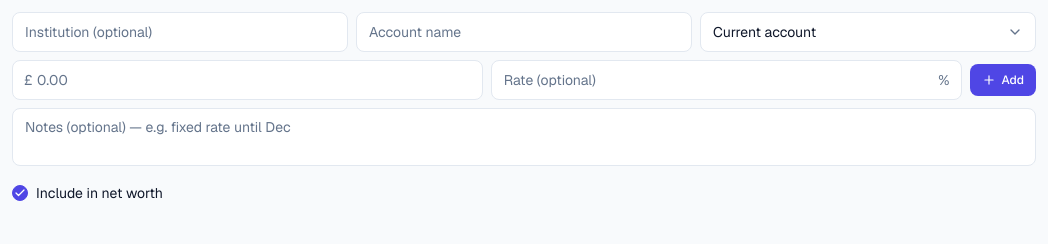
it: AddAccountForm › shows supabase error message on insert failure
The width and height of the screenshot is (1048, 244).
In the field with placeholder "Account name": (524, 32) [356,12,692,52], type "Test"
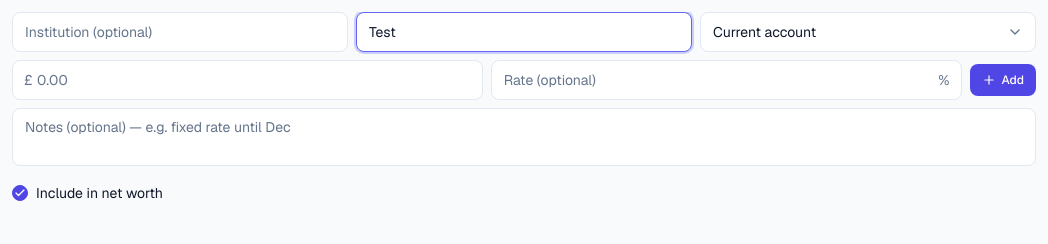
In the number field with placeholder "0.00": (247, 80) [12,60,483,100], type "100"
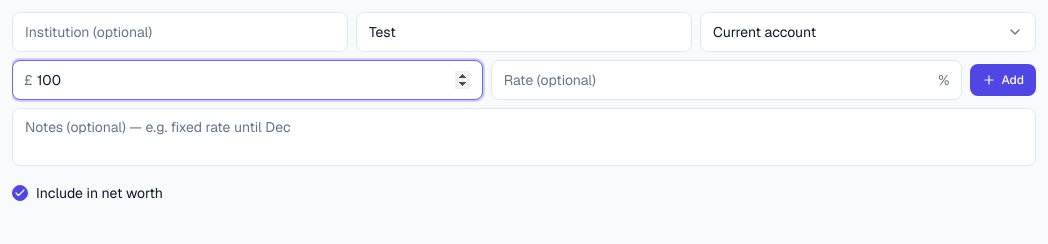
Click the button "Add": (1003, 80) [970,64,1036,96]
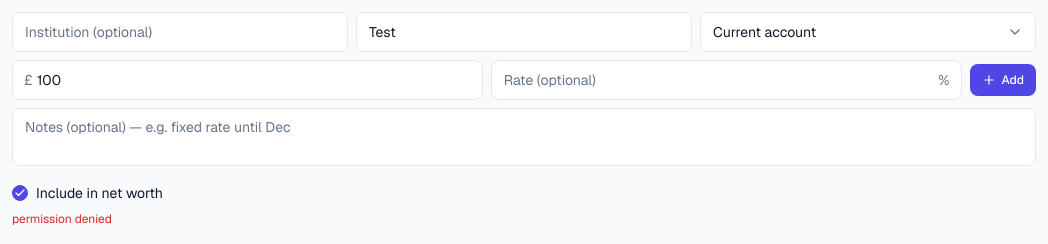
expect the text "permission denied" is shown: met, box [12,211,112,227]
